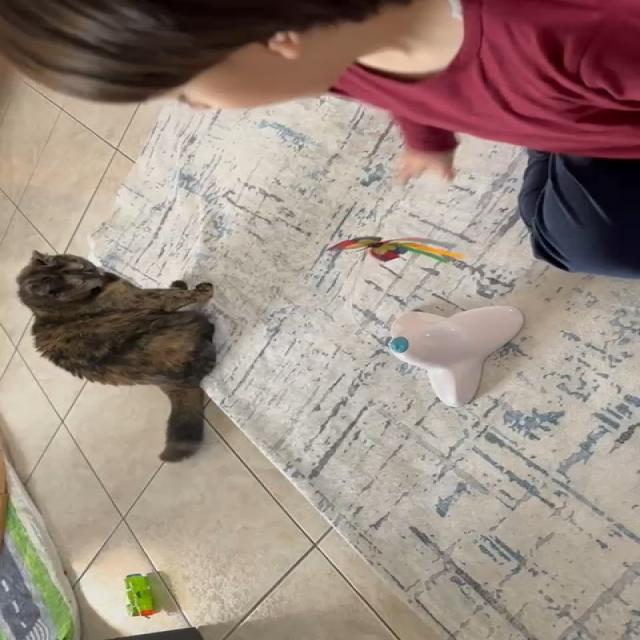authorized: (15, 249, 217, 463)
